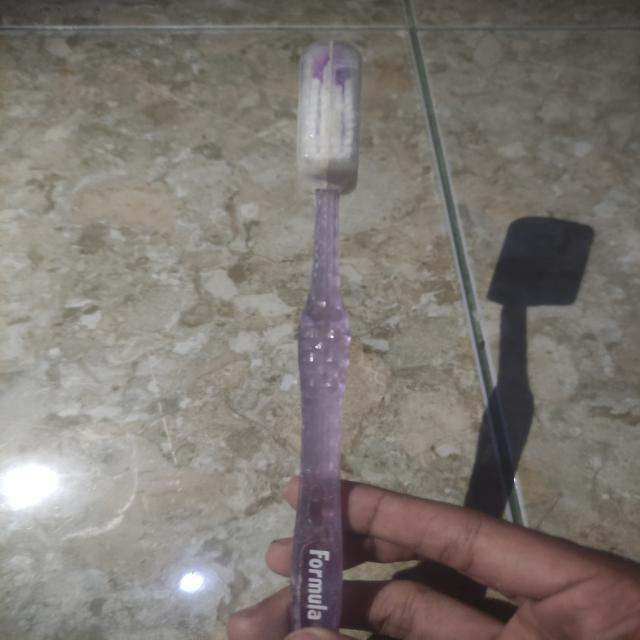toothbrush: (272, 36, 401, 640)
